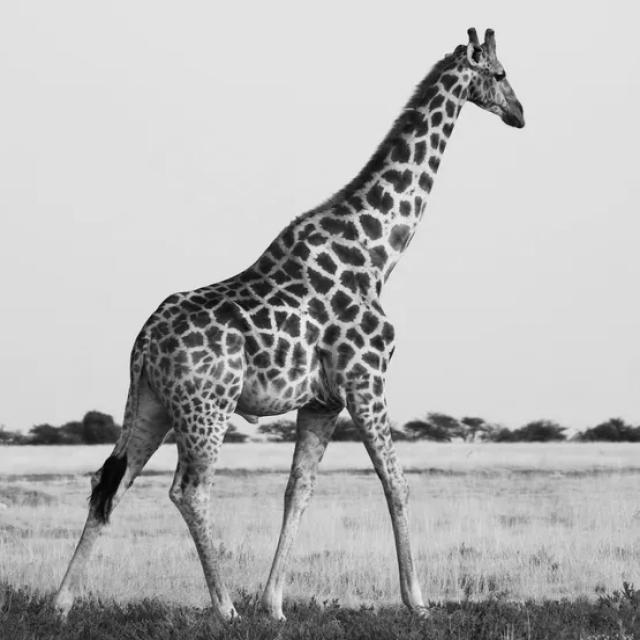Animal: (52, 30, 525, 621)
